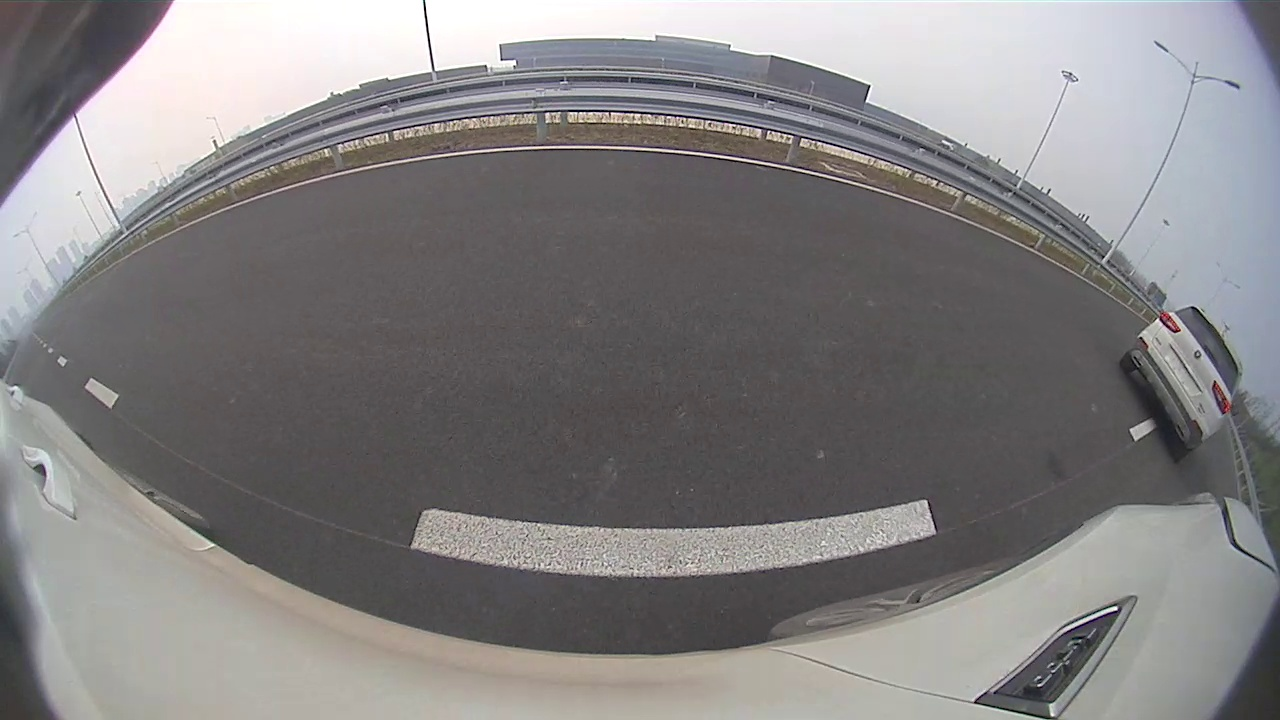car: (1118, 305, 1243, 458)
